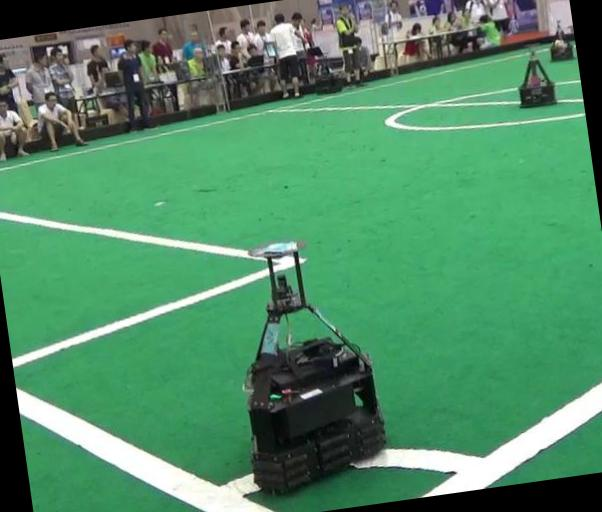person: (117, 39, 153, 130), (270, 14, 299, 98), (336, 6, 361, 85)
robot: (245, 241, 385, 492), (518, 59, 555, 107), (550, 21, 572, 60)
